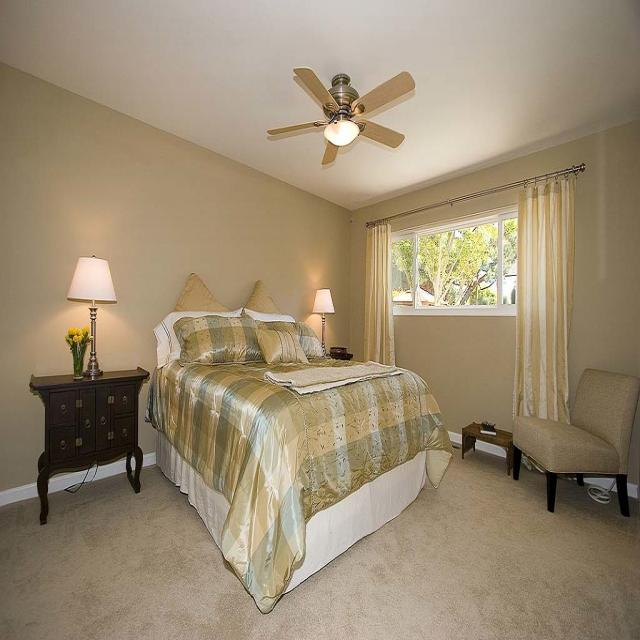Bulb: (264, 72, 405, 166)
